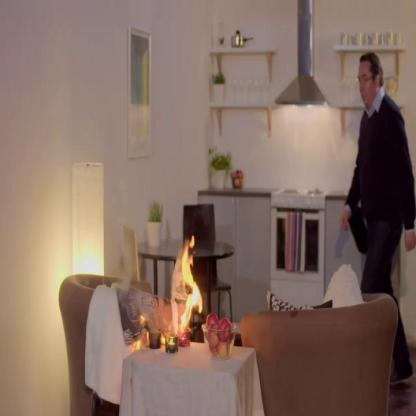fire: (178, 234, 202, 330)
